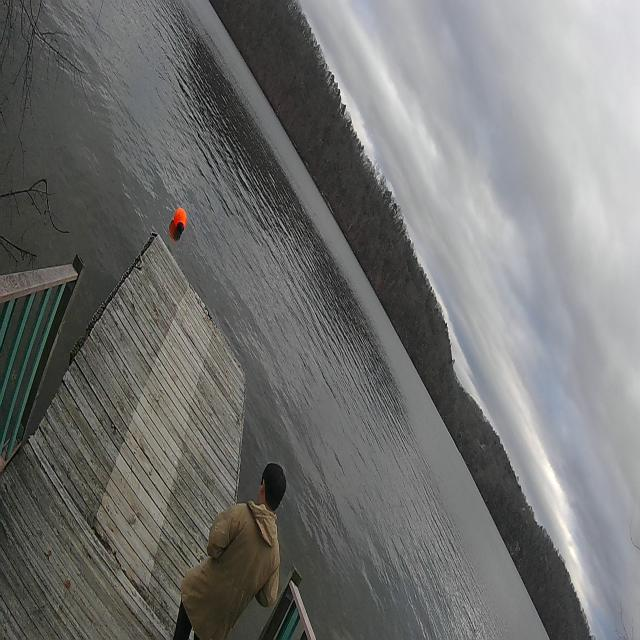Buoy: (171, 204, 188, 242)
